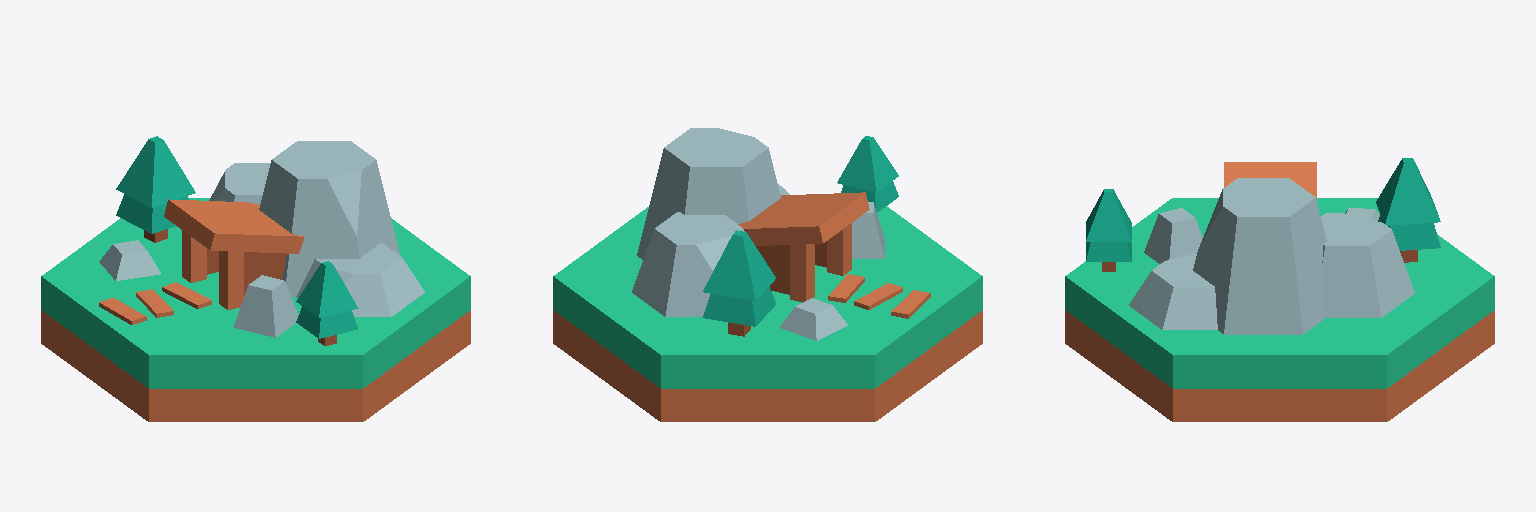
Rendered from building_mine.obj.
3 renders of one model, left to right at view 1: azimuth 30°, elevation 25°; view 2: azimuth 150°, elevation 25°; view 3: azimuth 270°, elevation 25°, orthographic.
Parts seen in each view (by area): view 1: building_mine, rockLarge, mine, tree, rock, path; view 2: building_mine, rockLarge, mine, tree, rock, path; view 3: building_mine, rockLarge, tree, rock, mine.
Boxes of the visible parts, <box> form: building_mine: <box>41,198,470,421</box>; rockLarge: <box>209,141,424,316</box>; mine: <box>164,199,304,309</box>; tree: <box>116,136,358,345</box>; rock: <box>99,240,298,337</box>; path: <box>99,282,211,324</box>; building_mine: <box>553,206,982,421</box>; rockLarge: <box>632,128,789,316</box>; mine: <box>738,192,869,302</box>; tree: <box>703,136,898,336</box>; rock: <box>779,202,884,340</box>; path: <box>828,274,930,318</box>; building_mine: <box>1065,198,1494,421</box>; rockLarge: <box>1129,178,1414,334</box>; tree: <box>1086,158,1440,271</box>; rock: <box>1144,207,1379,263</box>; mine: <box>1224,162,1316,199</box>.
Size of the model in its own units: 1 by 0.5204 by 1.15.